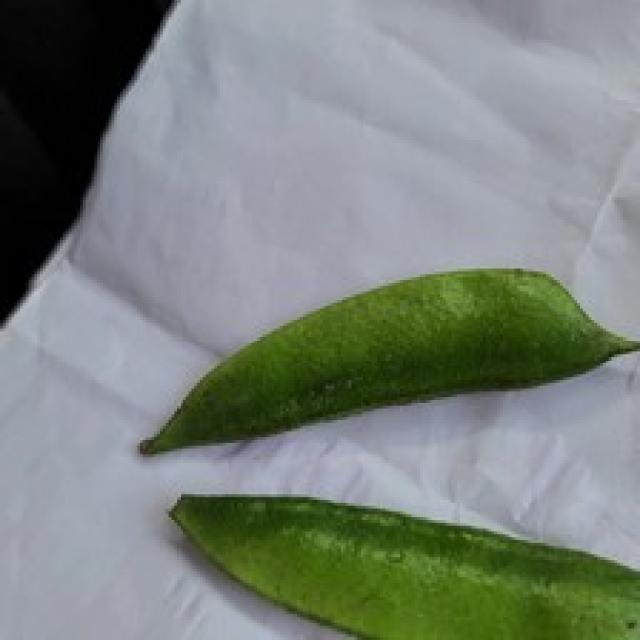Bean: (137, 263, 637, 457), (166, 489, 637, 637)
